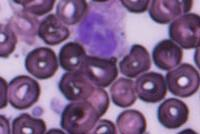N: (74, 1, 128, 58)
